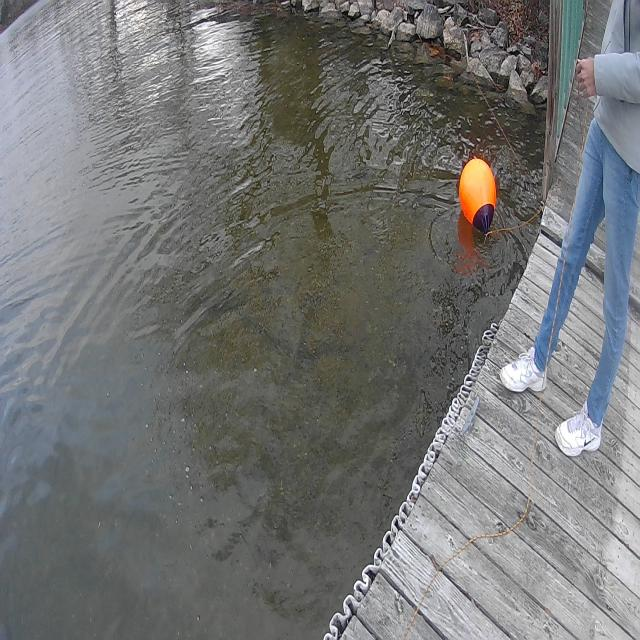Buoy: (454, 152, 507, 253)
